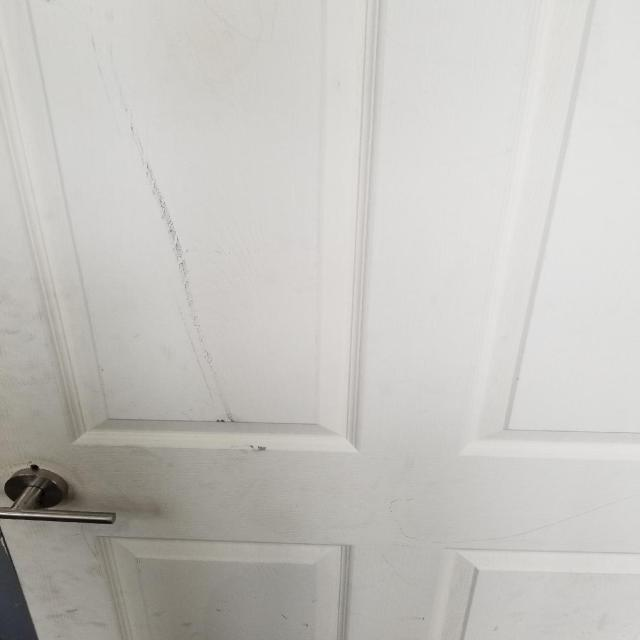door: (0, 466, 119, 528)
